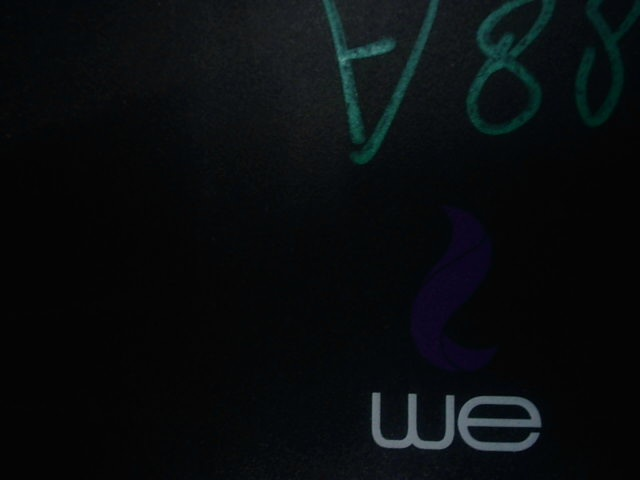AT_We: (330, 193, 551, 454)
